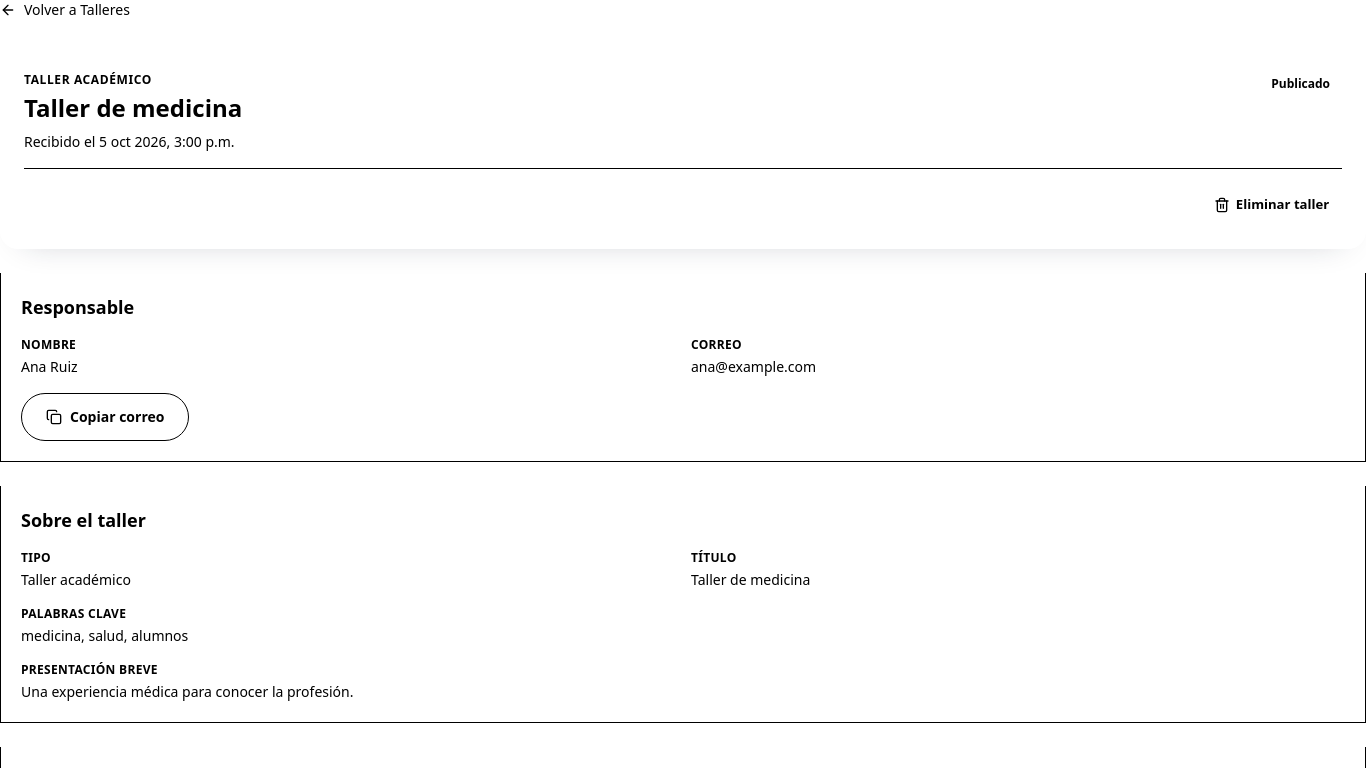
Test: singular wording and no warning when nobody is affected
Click the button "Eliminar taller".
click(1272, 205)  # box x1=1201 y1=185 x2=1342 y2=225
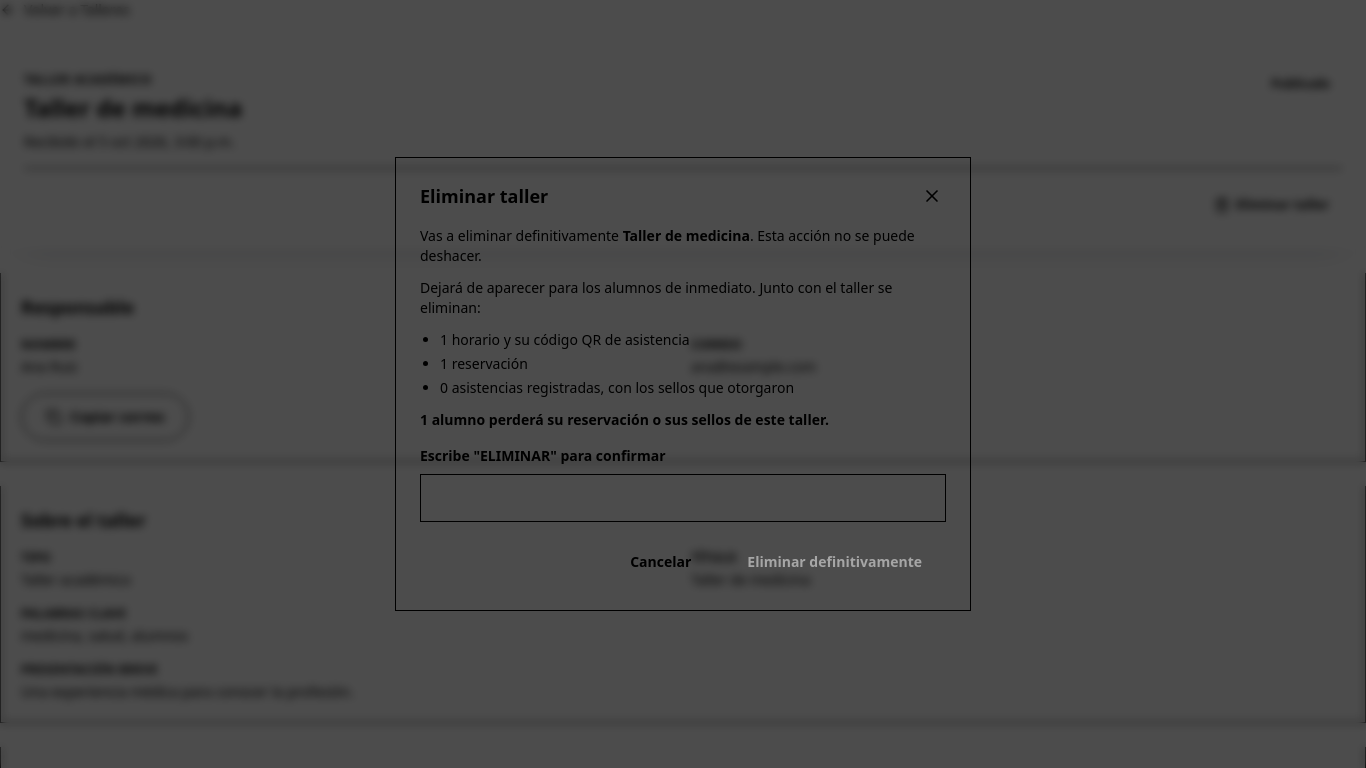
expect the list item "1 horario y su código QR de asistencia" is shown: met, box x1=440 y1=330 x2=690 y2=349
expect the list item "1 reservación" is shown: met, box x1=440 y1=354 x2=528 y2=373
expect the list item "0 asistencias registradas, con los sellos que otorgaron" is shown: met, box x1=440 y1=378 x2=794 y2=397
